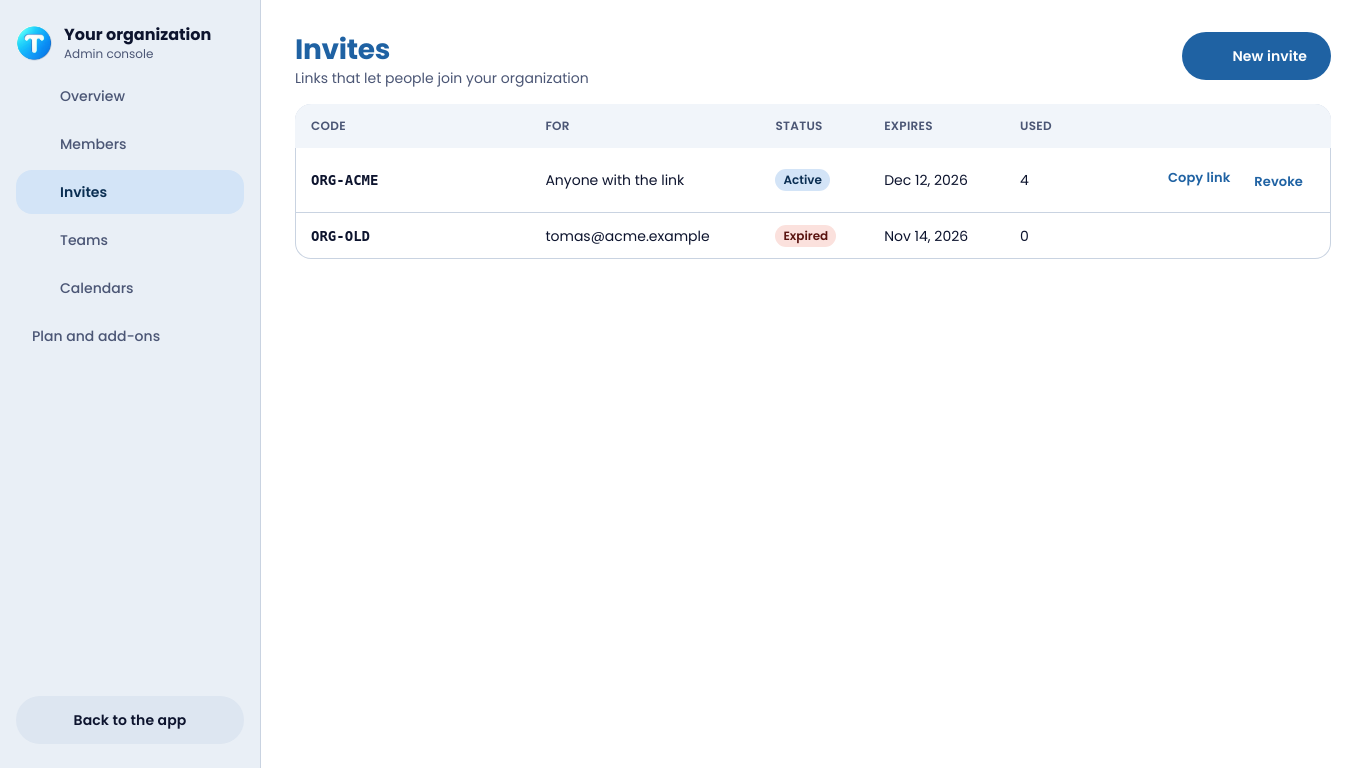
Scenario: admin console › makes an invite and shows its link
Expected: the text "ORG-ACME" is shown, [311,172,378,188]
Click the button "New invite" at (1257, 56), box [1182,32,1331,80]
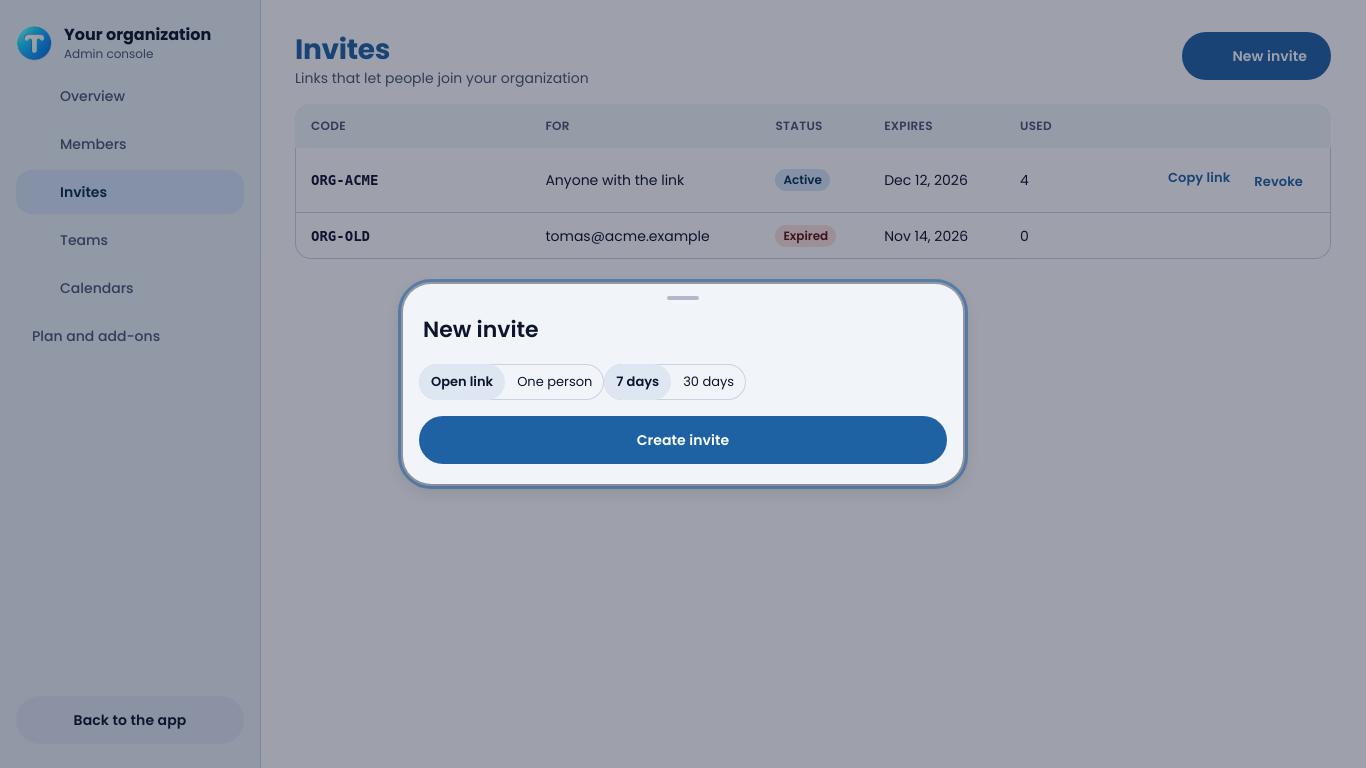
Click the button "Create invite" at (683, 440), box [419,416,947,464]
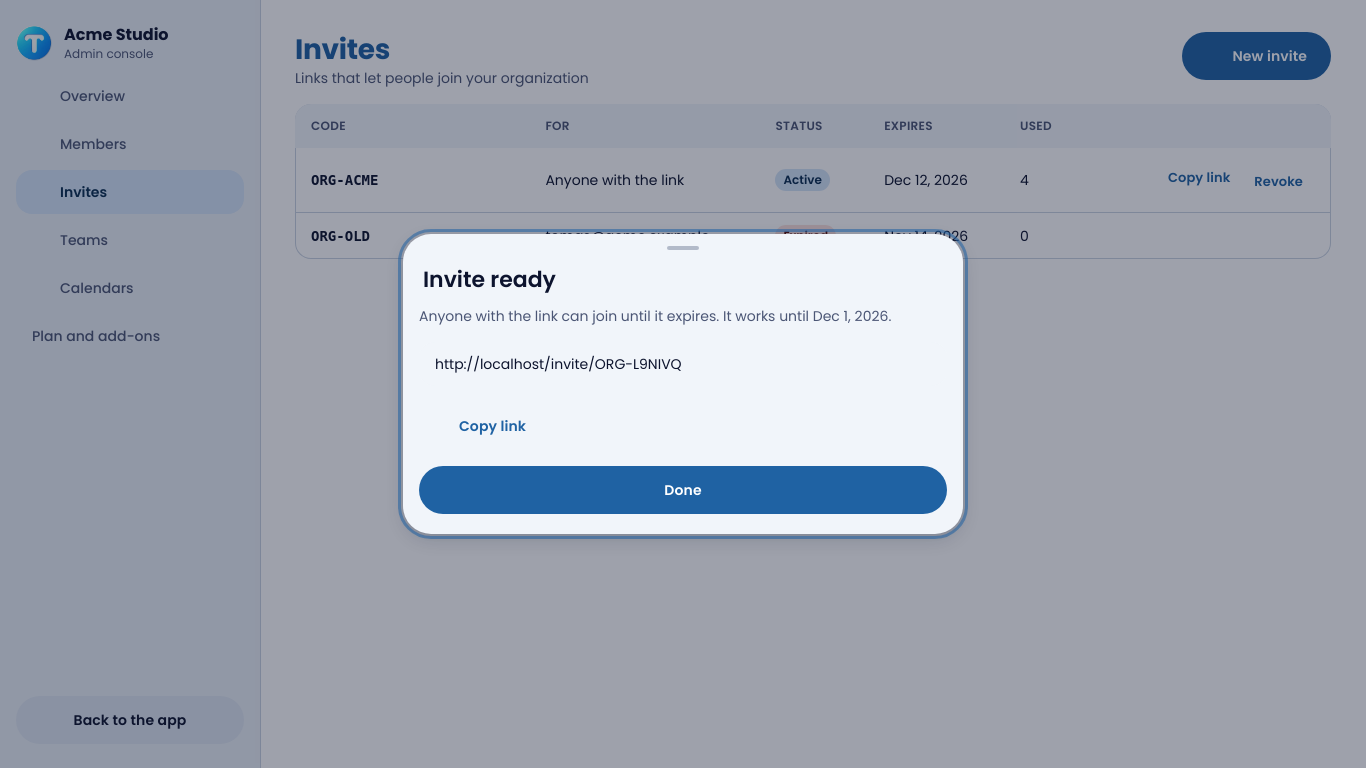
Expected: the heading "Invite ready" is shown, [423,264,556,295]
Expected: the text with class "linkbox__url" shows "/invite/ORG-", [435,354,682,374]
